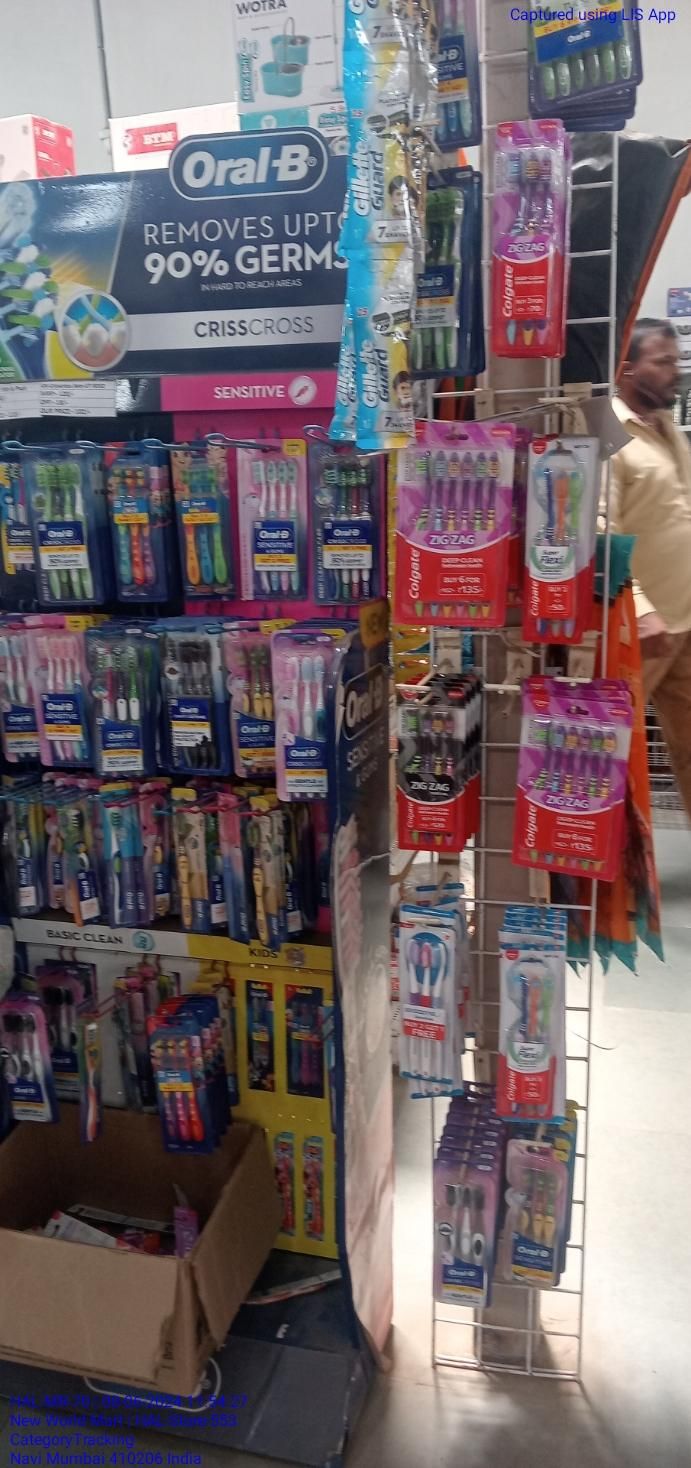10: (236, 440, 308, 601), (30, 616, 90, 767)
15: (397, 904, 453, 1083)
9: (65, 805, 98, 927)
liquid soap: (394, 684, 462, 852)
